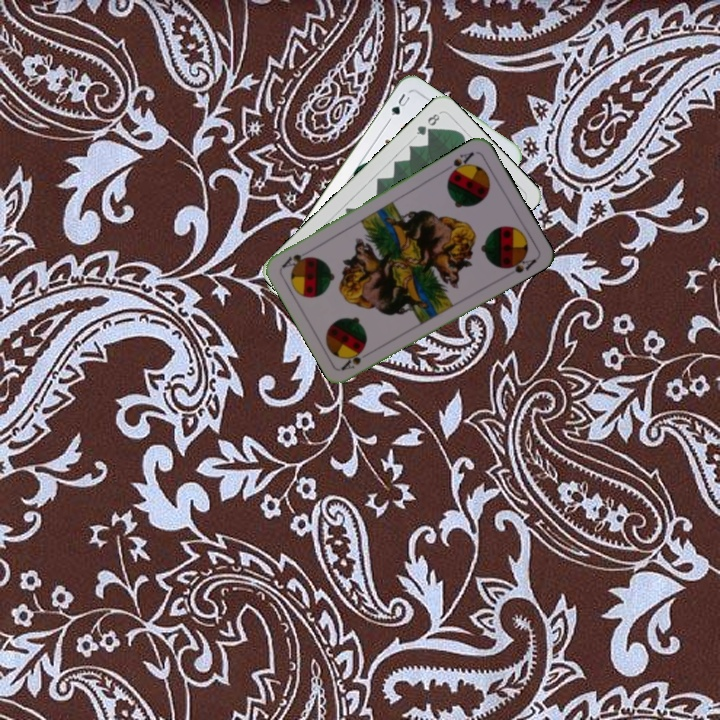G8: (412, 109, 443, 138)
GU: (384, 89, 413, 124)
SA: (338, 346, 375, 373), (445, 148, 477, 179)
